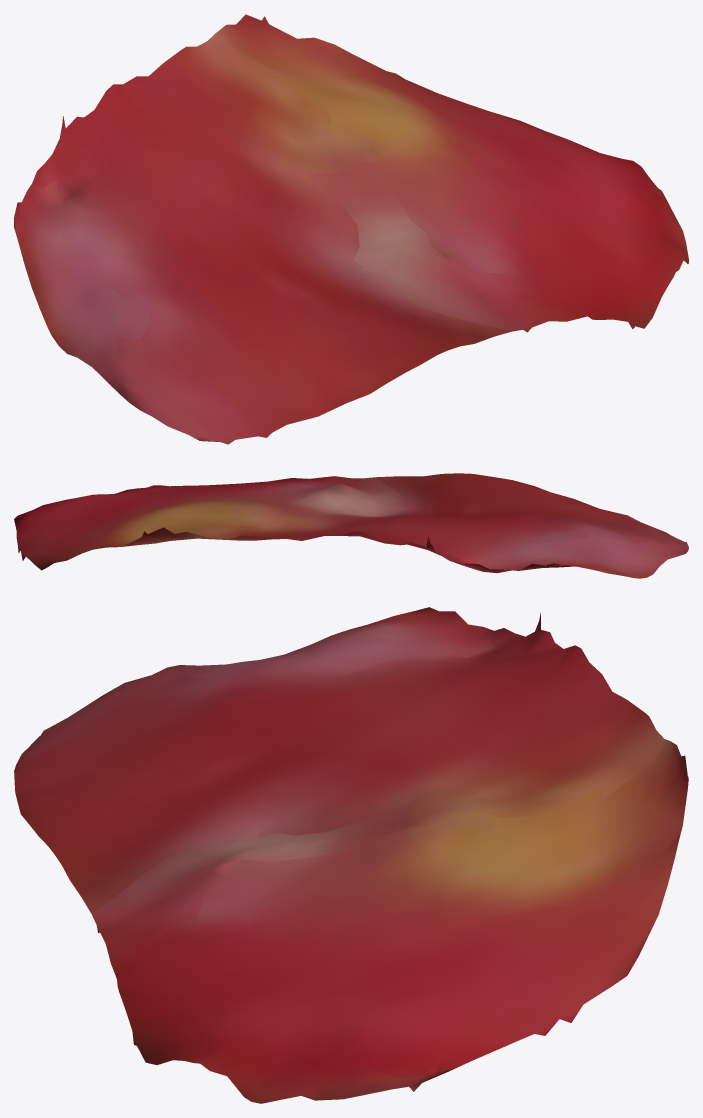
The model's file is Zona_A_Granuliacijos.obj.
3 views of the same model, one above another, from view 1: azimuth 30°, elevation 25°; view 2: azimuth 150°, elevation 25°; view 3: azimuth 270°, elevation 25° (orthographic). The views are drawn at different scales.
Visible parts, largest first — view 1: Iliostoma_su_plokštele_nevalyta_su_maceracija_02.001_Iliostoma_s; view 2: Iliostoma_su_plokštele_nevalyta_su_maceracija_02.001_Iliostoma_s; view 3: Iliostoma_su_plokštele_nevalyta_su_maceracija_02.001_Iliostoma_s.
Part boxes in pixels (left/top/right/bottom): Iliostoma_su_plokštele_nevalyta_su_maceracija_02.001_Iliostoma_s: left=14, top=14, right=688, bottom=444; Iliostoma_su_plokštele_nevalyta_su_maceracija_02.001_Iliostoma_s: left=14, top=473, right=688, bottom=578; Iliostoma_su_plokštele_nevalyta_su_maceracija_02.001_Iliostoma_s: left=14, top=607, right=688, bottom=1103.
Bounding box in the file's own units: 0.0493 × 0.0137 × 0.0379.
